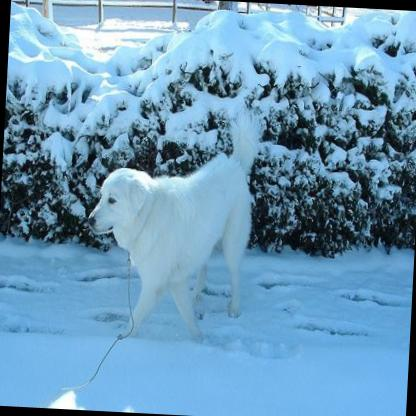Great_Pyrenees: (81, 101, 259, 342)
